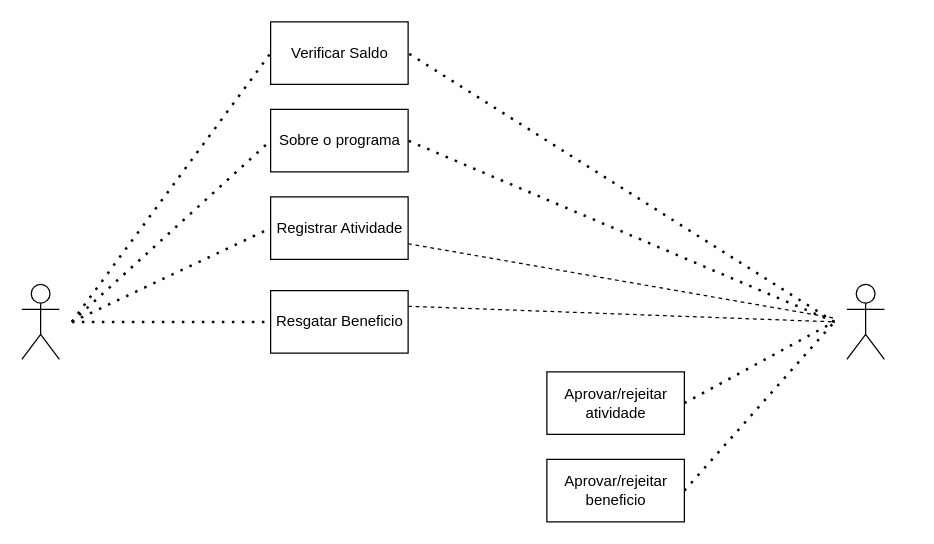
Some shapes in this 934 by 544 pixel diagram are drawn without their labels. Each missing label, with the centre of its shape:
Actor: the point at 40,321
Administrador: the point at 865,321
